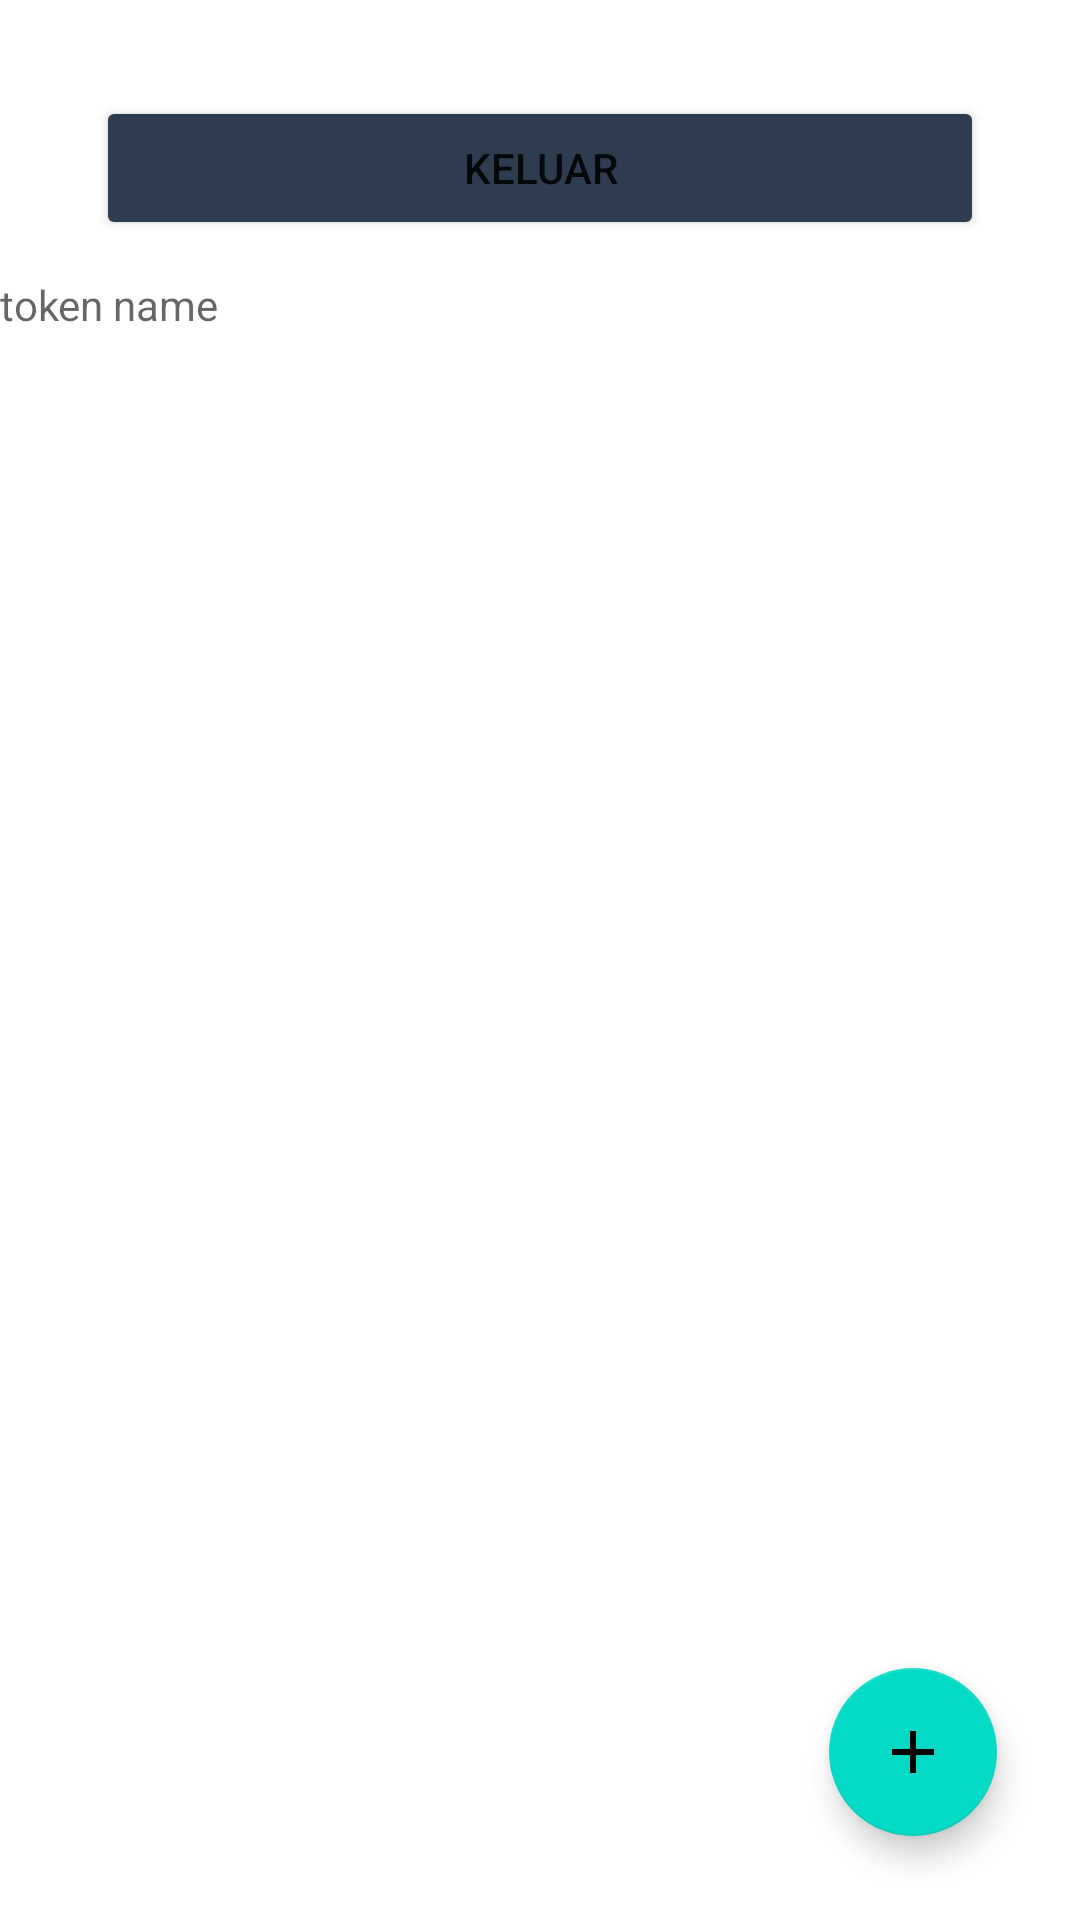

Icons on this 1080 x 1920 Android screen, each with its box as [x1, y1, x2, y2]:
add: [829, 1668, 997, 1836]
